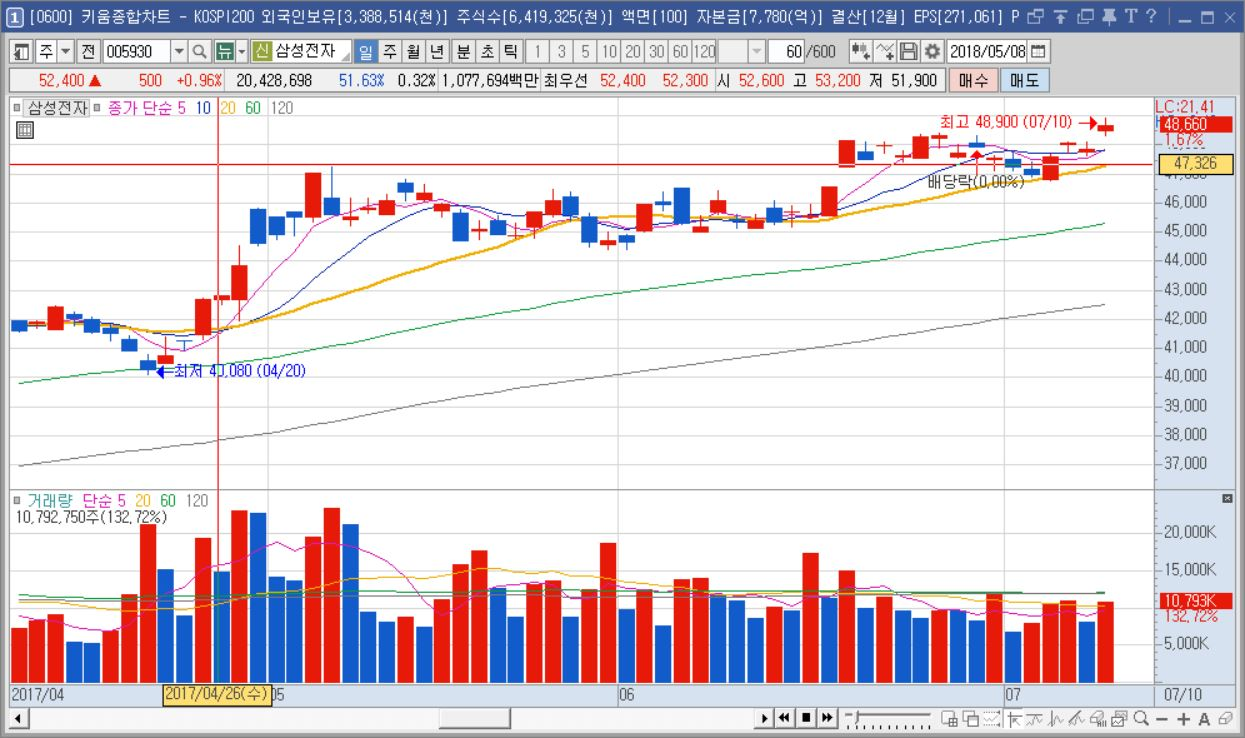up: (819, 110, 1116, 679)
